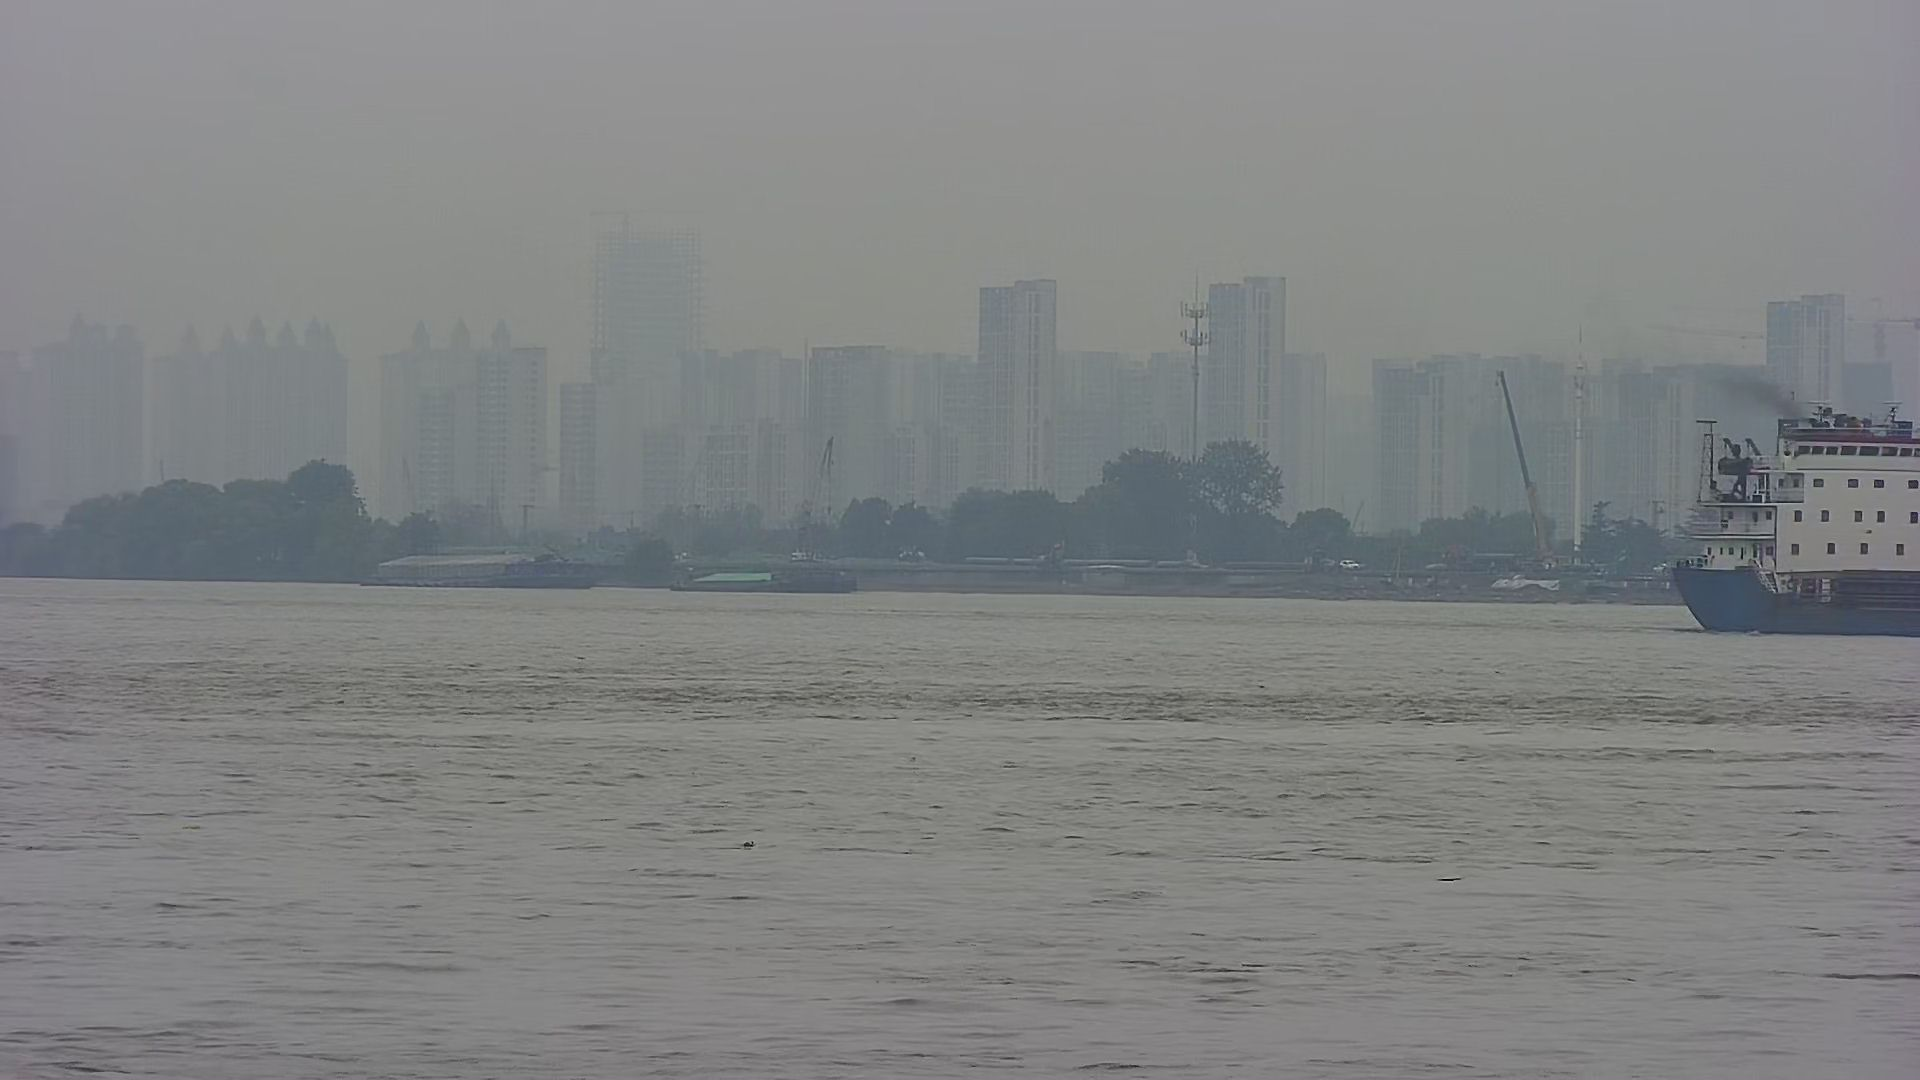boat: (665, 556, 865, 597)
ship: (1659, 402, 1920, 646)
